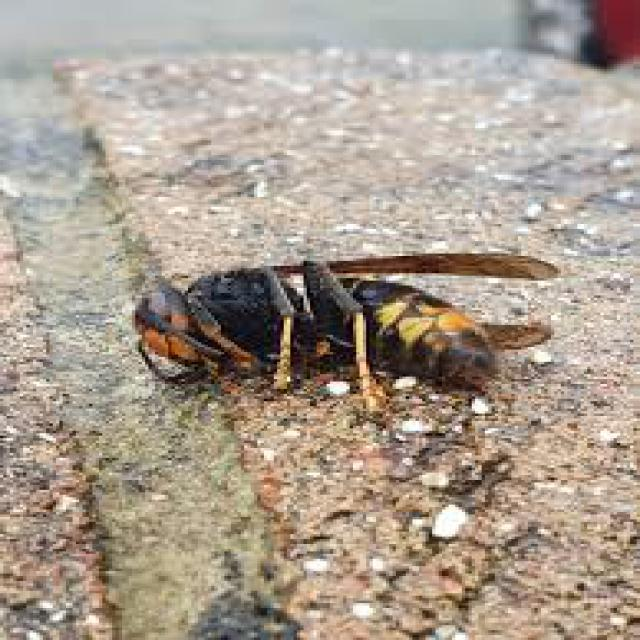Vespa Crabro: (121, 217, 610, 407)
